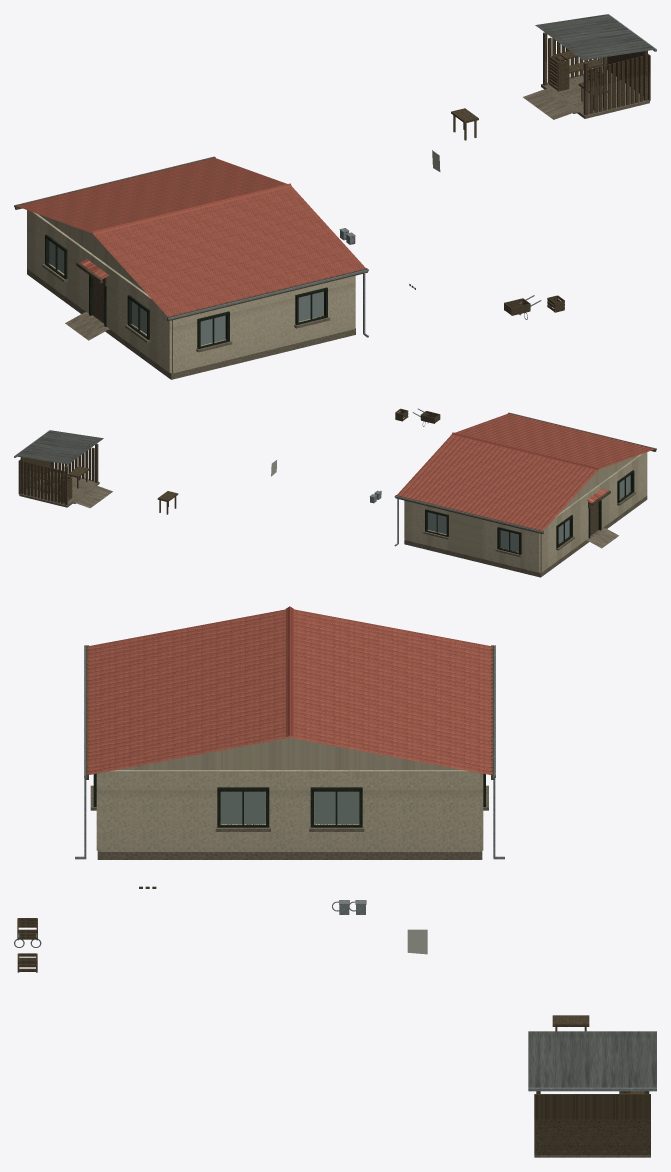
The picture shows the model from 3 angles, top to bottom: view 1: azimuth 30°, elevation 25°; view 2: azimuth 150°, elevation 25°; view 3: azimuth 270°, elevation 25°; orthographic projection. The views are drawn at different scales.
Parts seen in each view (by area): view 1: H25_TELHAS, H25_LATERAIS, H25_FACHADA, H25_ABRIGO_FERRAMENTAS_CHAPAS_UMA_AGUA, H25_ABRIGO_FERRAMENTAS_RIPADO, H25_FUNDACAO, H25_VIDROS_RECUADOS, H25_CAIXILHOS, H25_ABRIGO_FERRAMENTAS_BASE, H25_OITOES, H25_BEIRAIS, H25_ABRIGO_FERRAMENTAS_POSTES (+6 smaller); view 2: H25_TELHAS, H25_LATERAIS, H25_FACHADA, H25_ABRIGO_FERRAMENTAS_RIPADO, H25_ABRIGO_FERRAMENTAS_CHAPAS_UMA_AGUA, H25_FUNDACAO, H25_VIDROS_RECUADOS, H25_CAIXILHOS, H25_OITOES, H25_BEIRAIS, H25_ABRIGO_FERRAMENTAS_BASE, H25_CALHA (+7 smaller); view 3: H25_TELHAS, H25_FUNDOS, H25_ABRIGO_FERRAMENTAS_CHAPAS_UMA_AGUA, H25_ABRIGO_FERRAMENTAS_FECHO_FUNDO, H25_OITOES, H25_FUNDACAO, H25_VIDROS_RECUADOS, H25_CAIXILHOS, H25_CUMEEIRA, H25_BEIRAIS.
Boxes of the visible parts, left/top/right/bottom form: H25_TELHAS: left=17, top=157, right=365, bottom=316; H25_LATERAIS: left=172, top=276, right=354, bottom=373; H25_FACHADA: left=27, top=210, right=171, bottom=372; H25_ABRIGO_FERRAMENTAS_CHAPAS_UMA_AGUA: left=535, top=14, right=655, bottom=60; H25_ABRIGO_FERRAMENTAS_RIPADO: left=548, top=37, right=647, bottom=114; H25_FUNDACAO: left=27, top=269, right=355, bottom=379; H25_VIDROS_RECUADOS: left=49, top=241, right=323, bottom=345; H25_CAIXILHOS: left=45, top=234, right=327, bottom=348; H25_ABRIGO_FERRAMENTAS_BASE: left=541, top=70, right=649, bottom=118; H25_OITOES: left=38, top=214, right=145, bottom=292; H25_BEIRAIS: left=15, top=156, right=367, bottom=321; H25_ABRIGO_FERRAMENTAS_POSTES: left=543, top=32, right=647, bottom=115; H25_TELHAS: left=397, top=413, right=654, bottom=530; H25_LATERAIS: left=405, top=500, right=540, bottom=572; H25_FACHADA: left=540, top=452, right=647, bottom=572; H25_ABRIGO_FERRAMENTAS_RIPADO: left=20, top=447, right=94, bottom=504; H25_ABRIGO_FERRAMENTAS_CHAPAS_UMA_AGUA: left=15, top=430, right=103, bottom=464; H25_FUNDACAO: left=404, top=496, right=647, bottom=577; H25_VIDROS_RECUADOS: left=428, top=475, right=630, bottom=551; H25_CAIXILHOS: left=425, top=470, right=634, bottom=554; H25_OITOES: left=560, top=455, right=638, bottom=512; H25_BEIRAIS: left=395, top=412, right=656, bottom=534; H25_ABRIGO_FERRAMENTAS_BASE: left=19, top=471, right=99, bottom=507; H25_CALHA: left=394, top=412, right=656, bottom=533; H25_TELHAS: left=87, top=609, right=492, bottom=774; H25_FUNDOS: left=100, top=770, right=479, bottom=851; H25_ABRIGO_FERRAMENTAS_CHAPAS_UMA_AGUA: left=528, top=1031, right=656, bottom=1087; H25_ABRIGO_FERRAMENTAS_FECHO_FUNDO: left=534, top=1094, right=650, bottom=1154; H25_OITOES: left=118, top=737, right=461, bottom=769; H25_FUNDACAO: left=97, top=792, right=482, bottom=859; H25_VIDROS_RECUADOS: left=221, top=791, right=358, bottom=823; H25_CAIXILHOS: left=93, top=773, right=485, bottom=827; H25_CUMEEIRA: left=285, top=606, right=294, bottom=737; H25_BEIRAIS: left=85, top=645, right=494, bottom=779.
Bounding box in the file's own units: 30.92 × 4.28 × 19.29.
12 materials, 9 textured.
